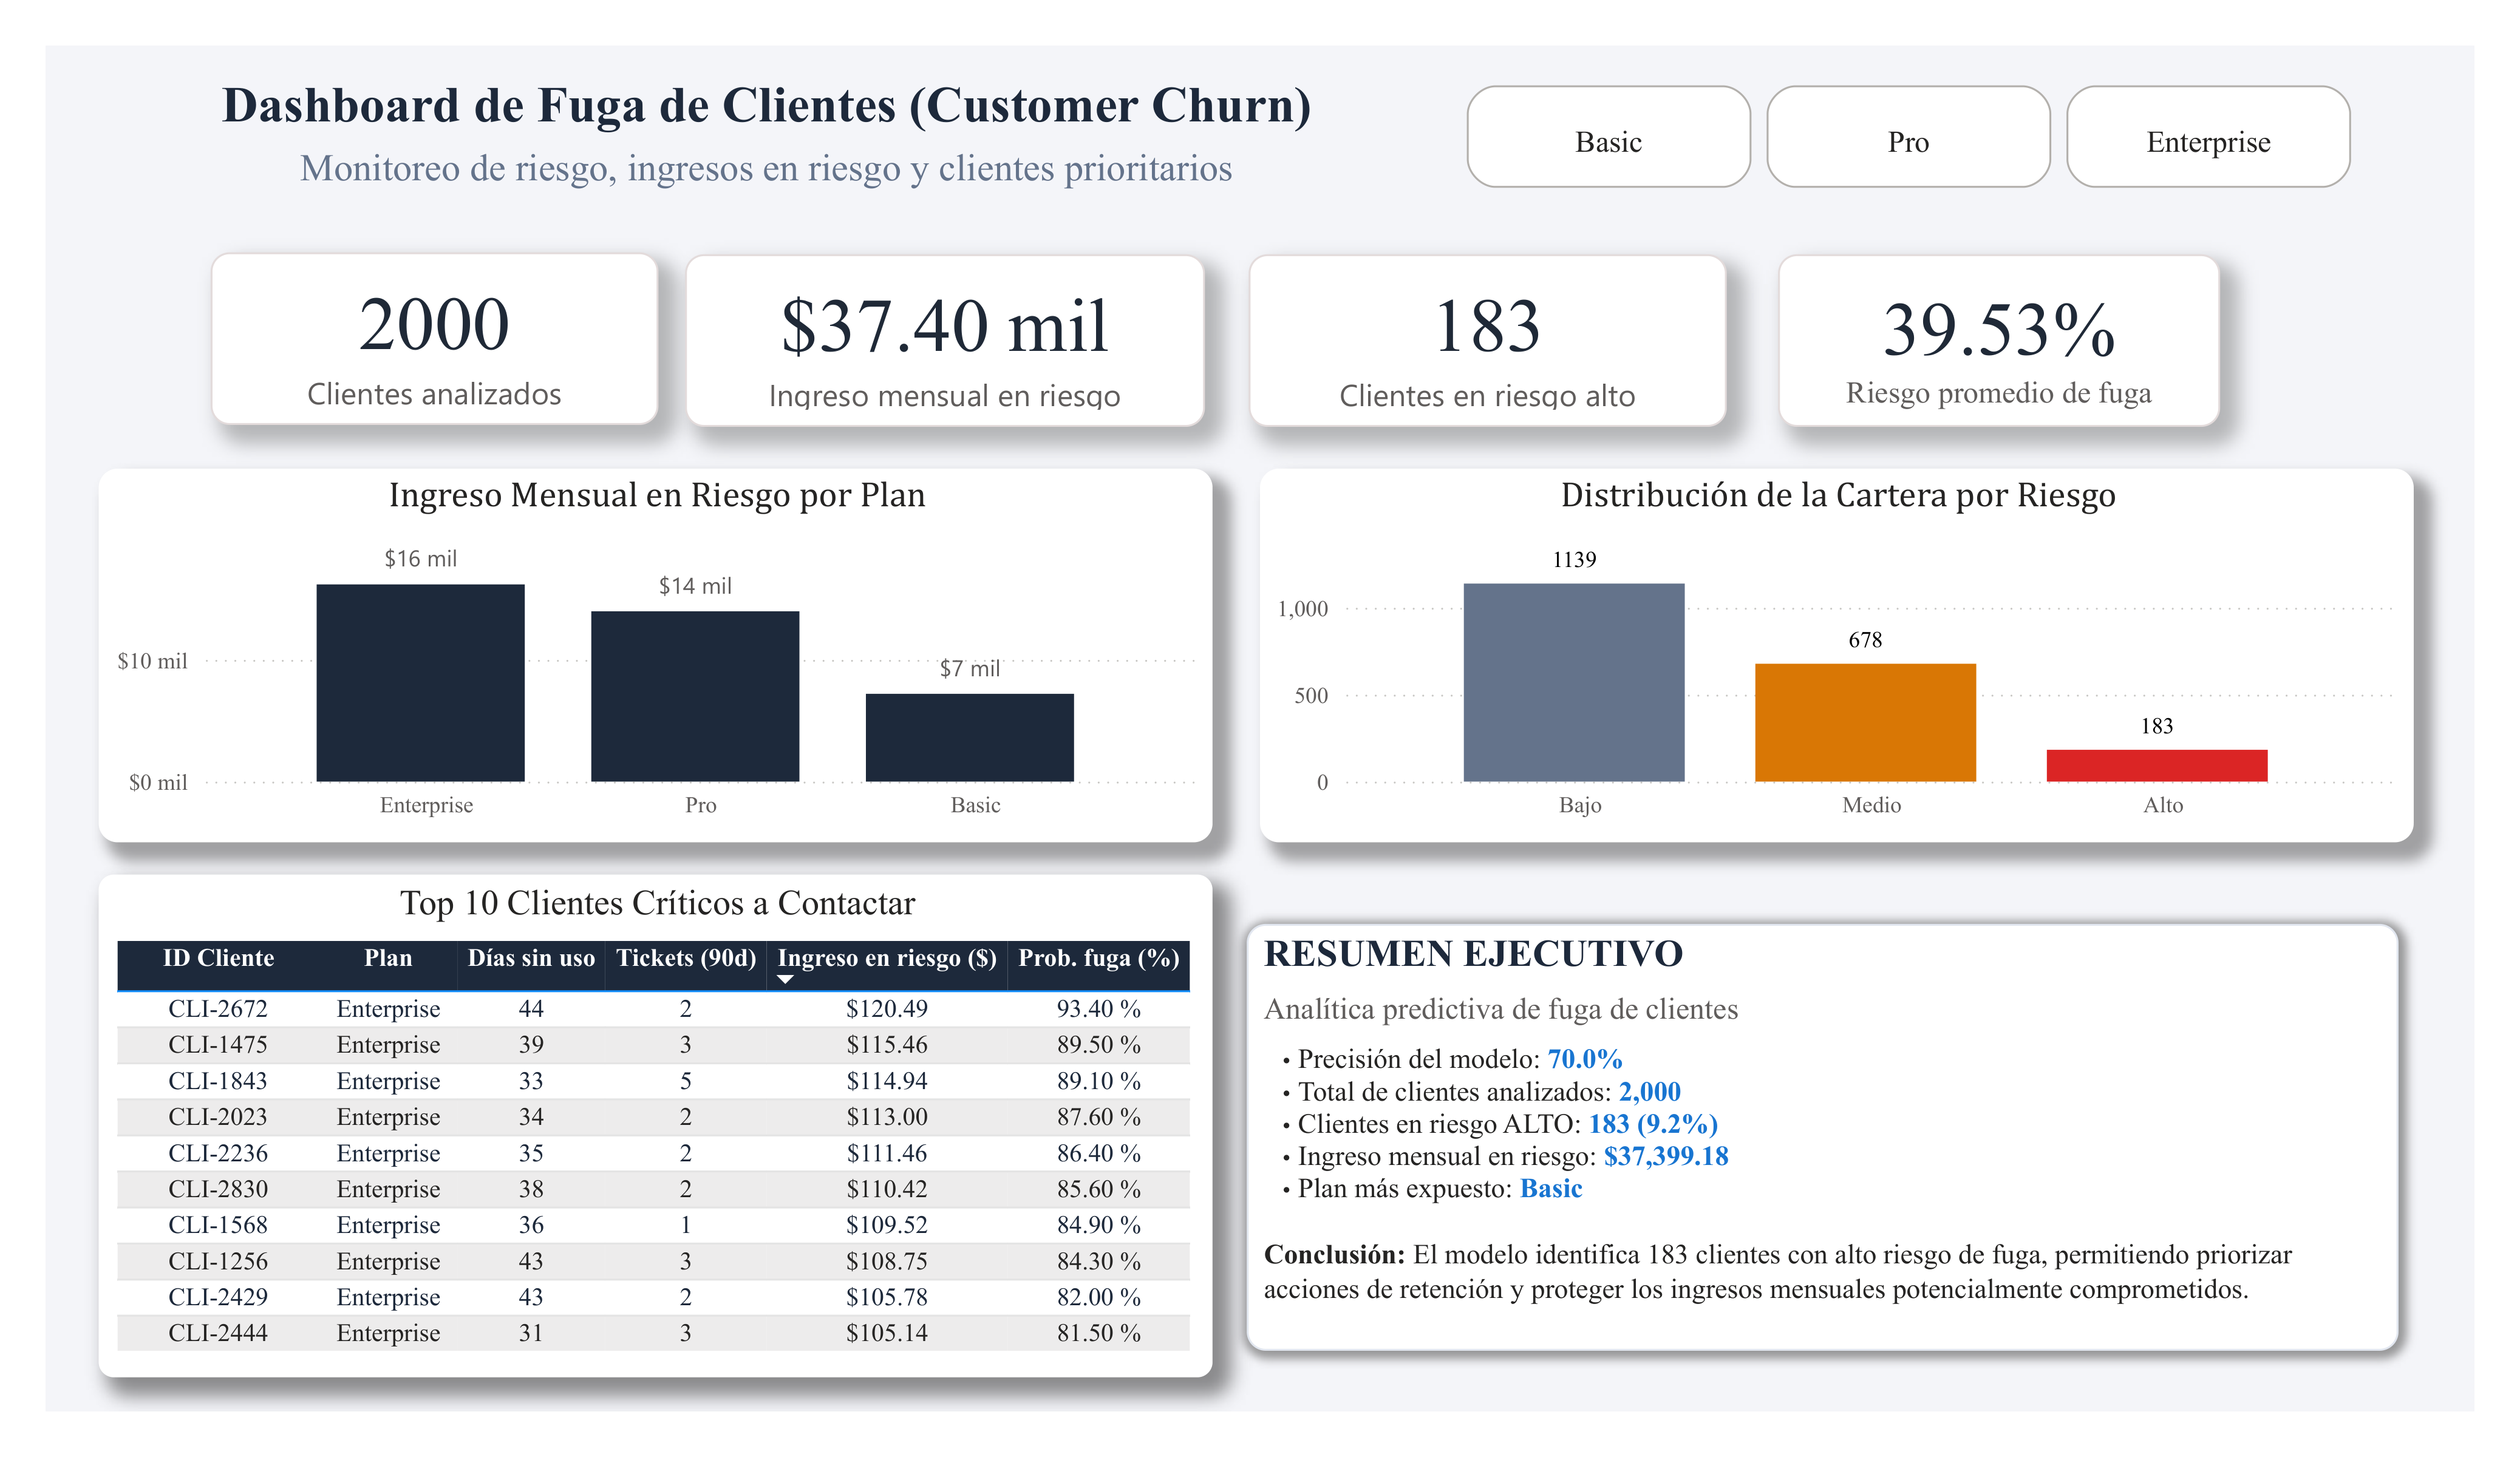

This screenshot's page, from the dashboard's own definition file:
{"tool":"powerbi","page":{"name":"Página 1","canvas":[1280,720],"ordinal":0},"visuals":[{"type":"card","fields":{"Values":["CountNonNull(clientes_analitica_ia.cliente_id)"]},"box":[87.1,108.6,235.7,91.4],"z":0},{"type":"card","fields":{"Values":["Sum(clientes_analitica_ia.ingreso_en_riesgo)"]},"box":[336.6,109.5,274,91],"z":1000},{"type":"card","fields":{"Values":["CountNonNull(clientes_analitica_ia.cliente_id)"]},"box":[633.6,109.5,252,91],"z":2000},{"type":"clusteredColumnChart","title":"Ingreso Mensual en Riesgo por Plan","fields":{"Category":["clientes_analitica_ia.plan"],"Y":["Sum(clientes_analitica_ia.ingreso_en_riesgo)"]},"box":[28.3,223.3,586.7,196.7],"z":3000},{"type":"clusteredColumnChart","title":"Distribución de la Cartera por Riesgo","fields":{"Category":["clientes_analitica_ia.nivel_riesgo"],"Y":["CountNonNull(clientes_analitica_ia.cliente_id)"]},"box":[640,223.3,608.3,196.7],"z":4000},{"type":"tableEx","title":"Top 10 Clientes Críticos a Contactar","fields":{"Values":["clientes_analitica_ia.cliente_id","clientes_analitica_ia.plan","clientes_analitica_ia.dias_sin_uso","clientes_analitica_ia.tickets_soporte_90d","clientes_analitica_ia.ingreso_en_riesgo","clientes_analitica_ia.Prob_Fuga_Pct"]},"box":[28.3,436.7,586.7,265],"z":5000},{"type":"textbox","title":"RESUMEN EJECUTIVO","box":[633.3,463.3,606.7,225],"z":6000},{"type":"advancedSlicerVisual","fields":{"Values":["clientes_analitica_ia.plan"]},"box":[744,16,478,64],"z":7000},{"type":"card","fields":{"Values":["Avg(clientes_analitica_ia.Prob_Fuga_Pct)"]},"box":[912.6,109.5,233,91],"z":8000},{"type":"textbox","title":"Dashboard de Fuga de Clientes (Customer Churn)","box":[0,16,760,94],"z":9000}]}

Visuals, with their boxes on the page's 1280x720 design canvas (x1, y1, x2, y2). These are canvas units, not pixel positions in the 2520x1457 screenshot, which may show the page scaled, cropped or inside an application window:
card - CountNonNull(clientes_analitica_ia.cliente_id): <box>87,109,323,200</box>
card - Sum(clientes_analitica_ia.ingreso_en_riesgo): <box>337,110,611,200</box>
card - CountNonNull(clientes_analitica_ia.cliente_id): <box>634,110,886,200</box>
"Ingreso Mensual en Riesgo por Plan" clusteredColumnChart: <box>28,223,615,420</box>
"Distribución de la Cartera por Riesgo" clusteredColumnChart: <box>640,223,1248,420</box>
"Top 10 Clientes Críticos a Contactar" tableEx: <box>28,437,615,702</box>
"RESUMEN EJECUTIVO" textbox: <box>633,463,1240,688</box>
advancedSlicerVisual - clientes_analitica_ia.plan: <box>744,16,1222,80</box>
card - Avg(clientes_analitica_ia.Prob_Fuga_Pct): <box>913,110,1146,200</box>
"Dashboard de Fuga de Clientes (Customer Churn)" textbox: <box>0,16,760,110</box>
